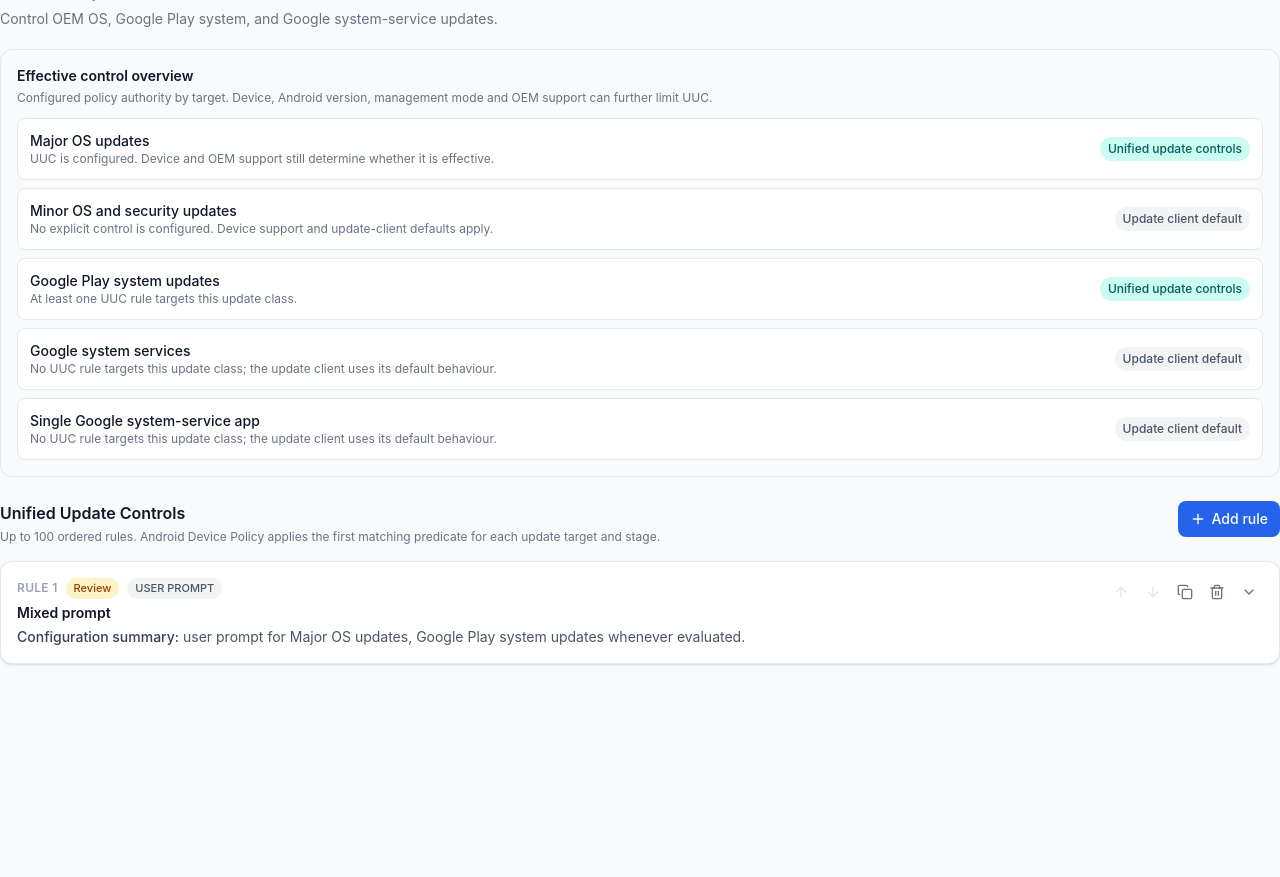
Scenario: PlatformUpdatesSection › allows mixed rules to retain USER_PROMPT while warning that non-OS targets use defaults
Click the button named "Expand rule 1" at [1249, 592], box [1235,578,1263,606]
(page scrolled)
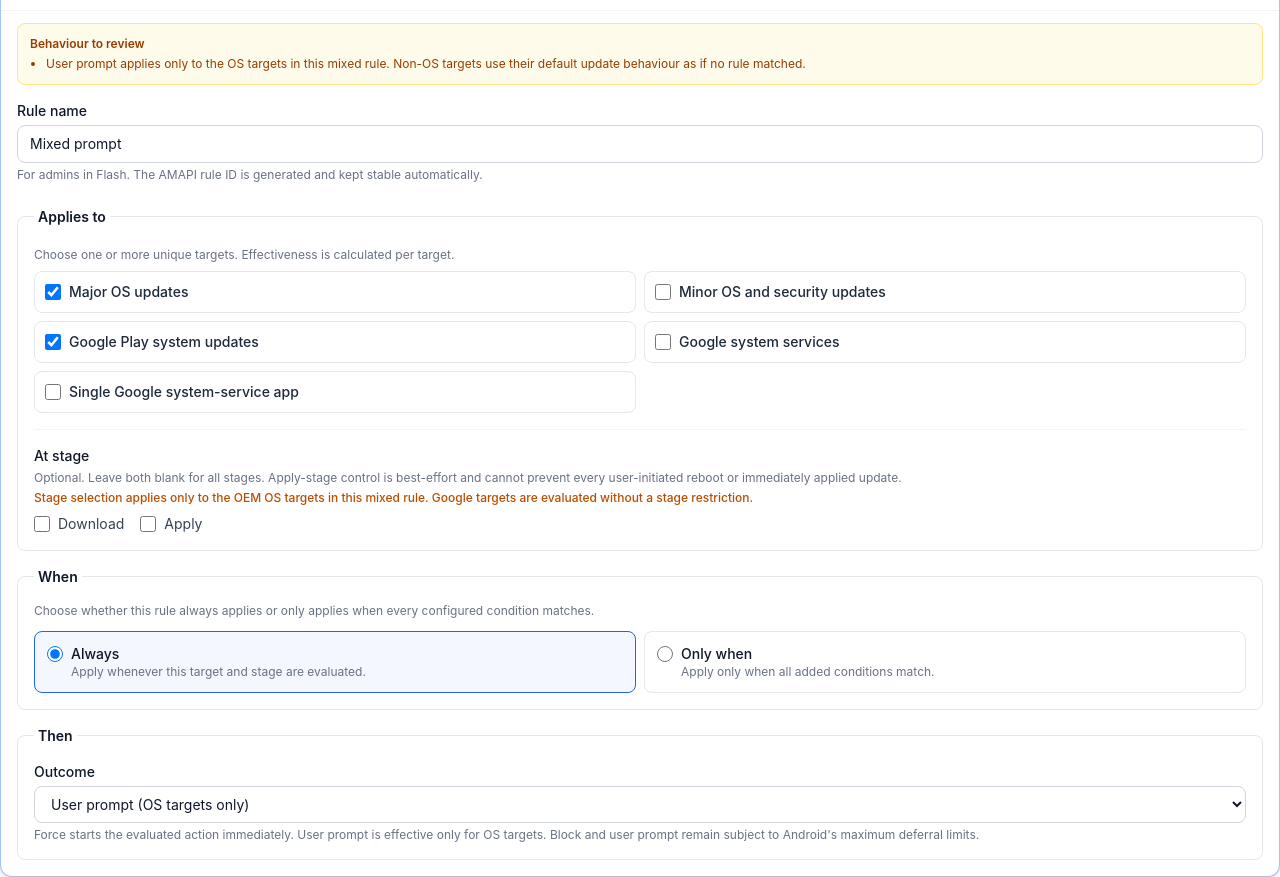
Expected: the list item "User prompt applies only to the OS targets in this mixed rule" is shown, [46,56,806,70]
Expected: the text "Stage selection applies only to the OEM OS targets" is shown, [34,490,753,504]
